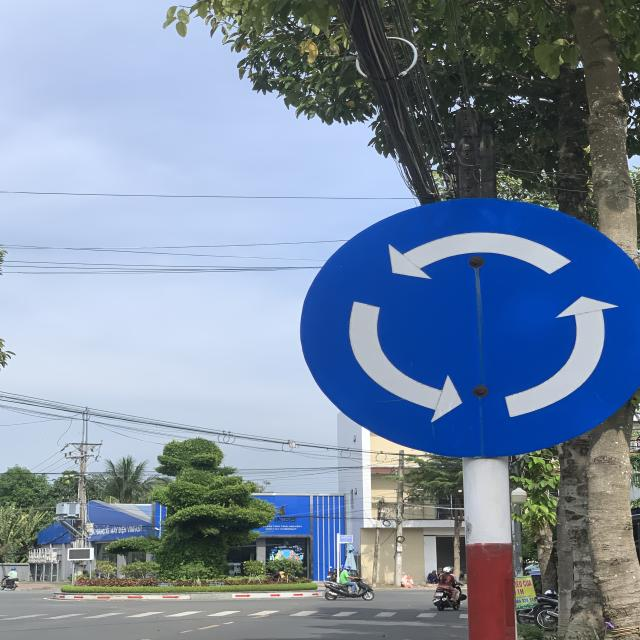Xe_Bus: (298, 193, 640, 463)
